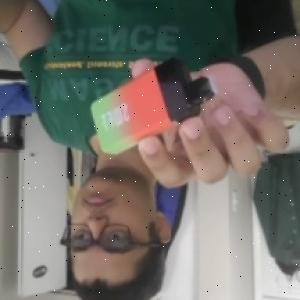Swift-E-Ciggirate: (89, 55, 217, 157)
